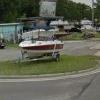Boat: (15, 34, 70, 70)
